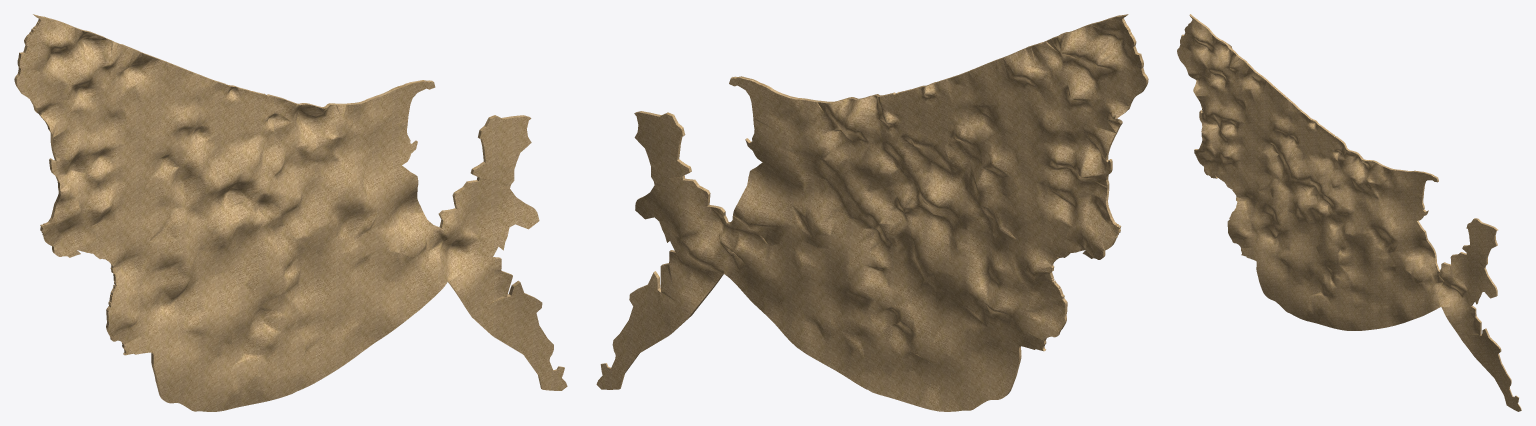
3 renders of one model, left to right at view 1: azimuth 30°, elevation 25°; view 2: azimuth 150°, elevation 25°; view 3: azimuth 330°, elevation 25°, orthographic. The views are drawn at different scales.
Size of the model in its own units: 24213 by 21145 by 1469.
3 materials, 3 textured.
